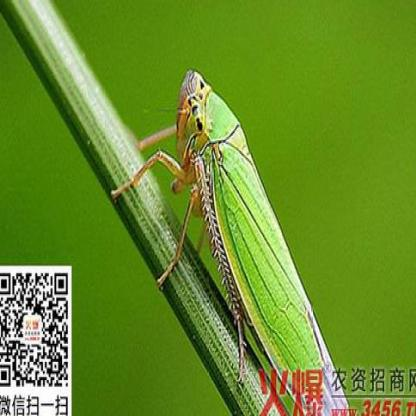Green-Leafhopper: (110, 70, 350, 416)
